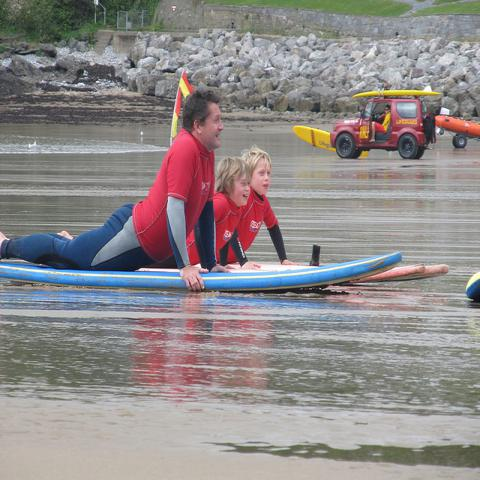truck: (330, 98, 438, 162)
